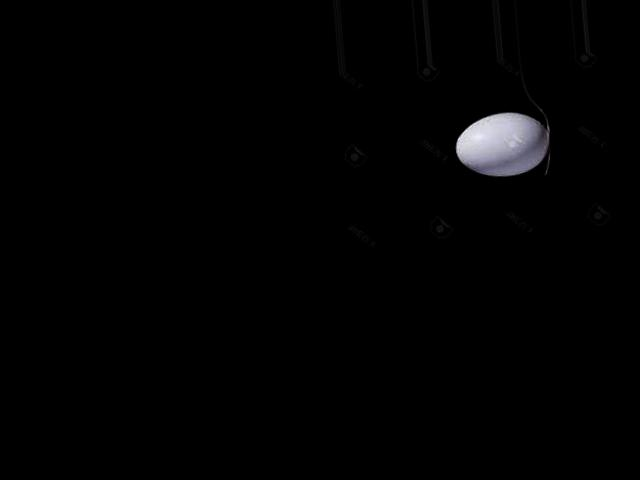egg: (454, 108, 552, 179)
